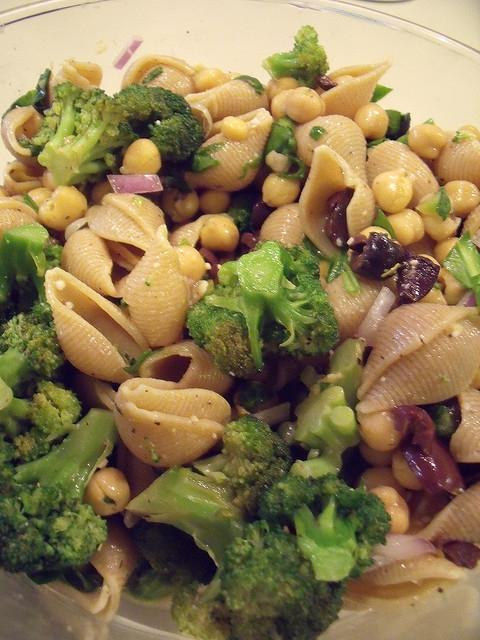broccoli: (186, 240, 340, 379), (0, 408, 118, 574), (218, 520, 350, 640), (259, 472, 392, 580), (15, 80, 140, 188), (276, 338, 366, 479), (193, 414, 292, 508), (112, 82, 206, 160), (1, 378, 82, 464), (1, 222, 63, 326), (0, 312, 64, 391), (260, 25, 330, 90), (440, 230, 480, 310)
onion: (366, 533, 436, 571), (354, 286, 396, 346), (111, 34, 144, 70), (106, 174, 164, 194), (252, 402, 290, 426), (456, 290, 478, 308)
